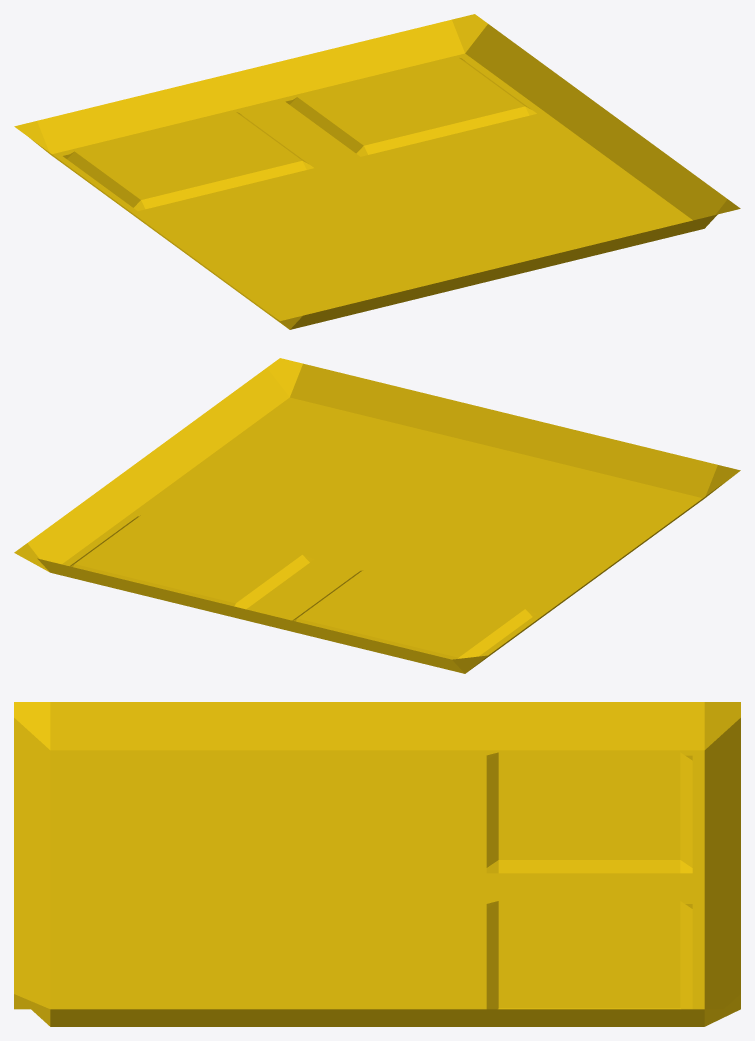
The model's file is farm.glb.
3 views of the same model, one above another, from view 1: azimuth 30°, elevation 25°; view 2: azimuth 150°, elevation 25°; view 3: azimuth 270°, elevation 25° (orthographic). The views are drawn at different scales.
Visible parts, largest first — view 1: Plane; view 2: Plane; view 3: Plane.
Boxes of the visible parts, <box> form: Plane: <box>14,14,740,329</box>; Plane: <box>14,358,740,673</box>; Plane: <box>14,702,740,1026</box>.
Size of what is drawn, in the model's own units: 40 by 2 by 40.
